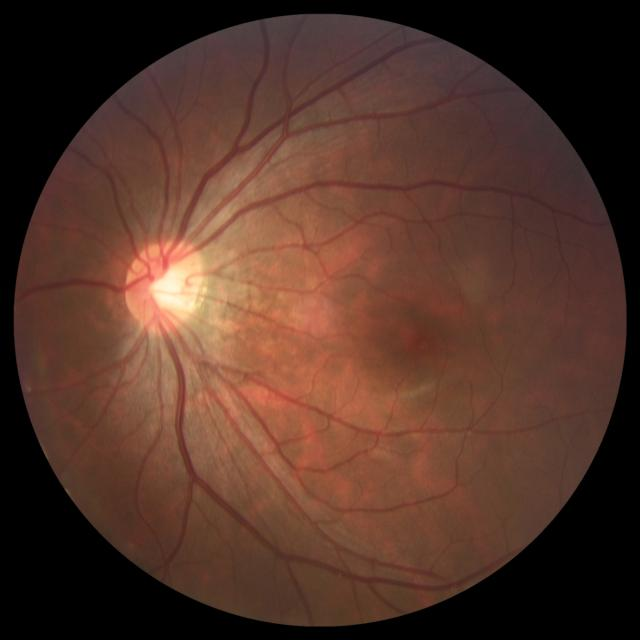OC: (152, 266, 188, 307)
OD: (124, 239, 205, 330)
